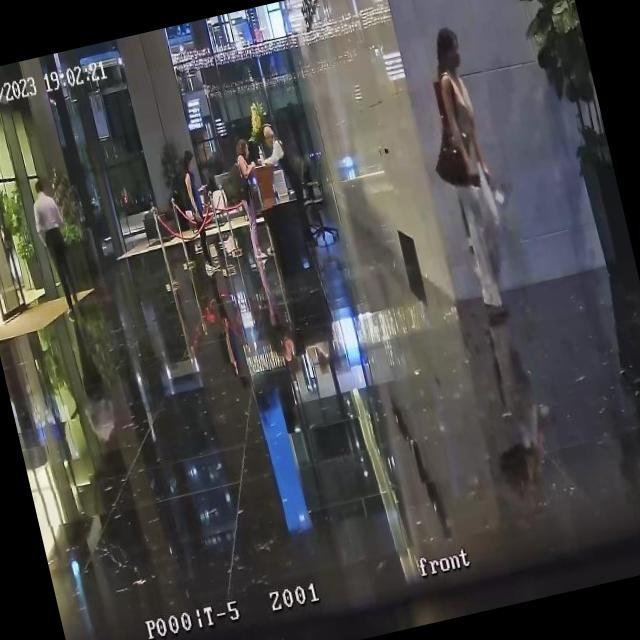person: (411, 24, 522, 324), (254, 118, 317, 256), (25, 176, 85, 320), (226, 134, 278, 260), (178, 148, 220, 274)
